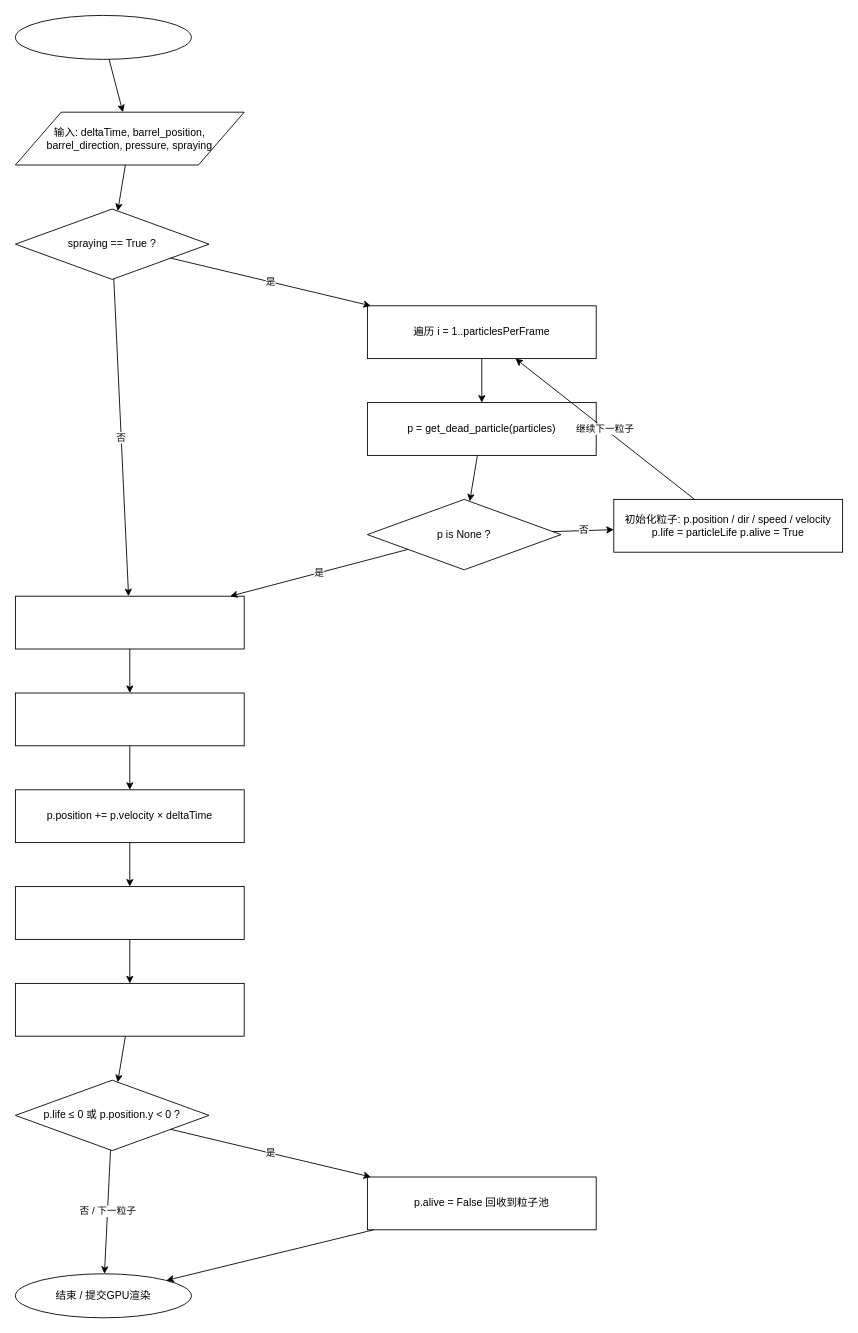
This 858x1333 diagram has some shape labels left out. Each missing label, with the centre of its shape:
"p.life -= deltaTime" belongs at point 129,912.
"p.size = 0.1 × (p.life / particleLife)" belongs at point 129,1009.
"p.velocity.y -= gravity × deltaTime" belongs at point 129,719.
"开始 / 每帧渲染循环" belongs at point 103,37.
"遍历所有 p.alive 粒子" belongs at point 129,622.
